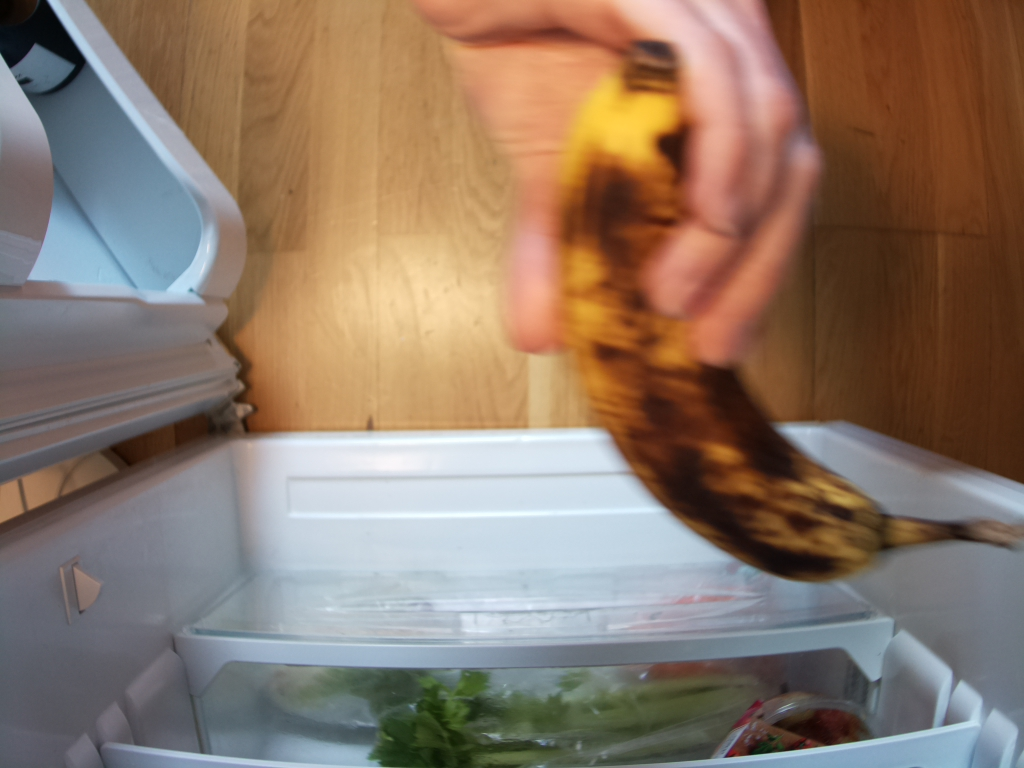banana-overripe: (554, 40, 1024, 584)
